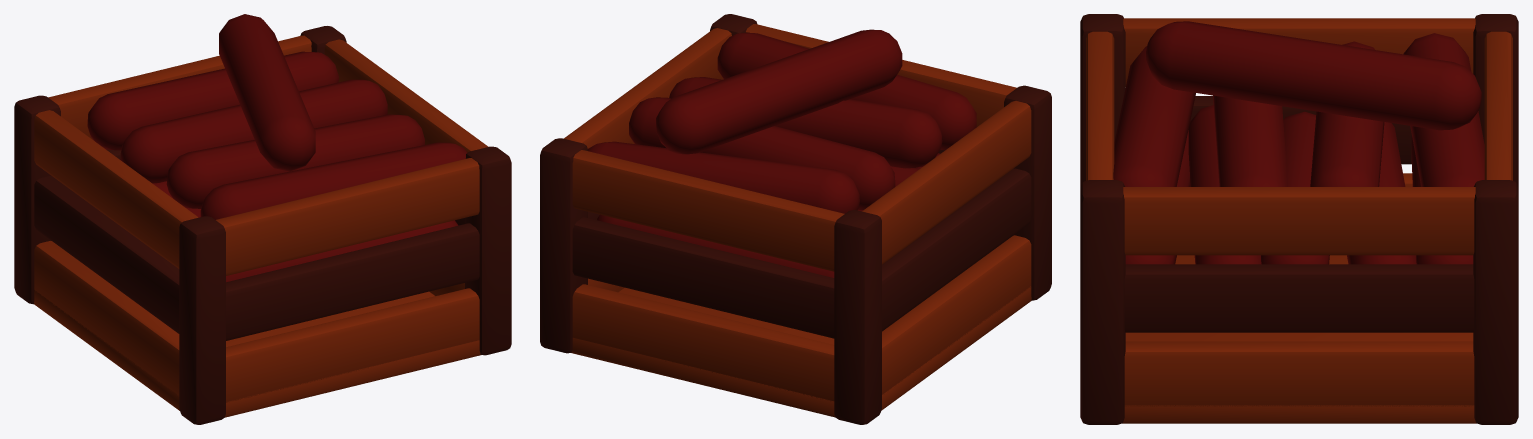
File: IngredientCrate.obj
3 renders of one model, left to right at view 1: azimuth 30°, elevation 25°; view 2: azimuth 150°, elevation 25°; view 3: azimuth 270°, elevation 25°, orthographic. The views are drawn at different scales.
Parts seen in each view (by area): view 1: IngredientCrate; view 2: IngredientCrate; view 3: IngredientCrate.
Part boxes in pixels (<box>): IngredientCrate: <box>14,14,511,424</box>; IngredientCrate: <box>540,14,1051,424</box>; IngredientCrate: <box>1080,14,1518,424</box>.
Bounding box in the file's own units: 1.54 × 1.15 × 1.54.
